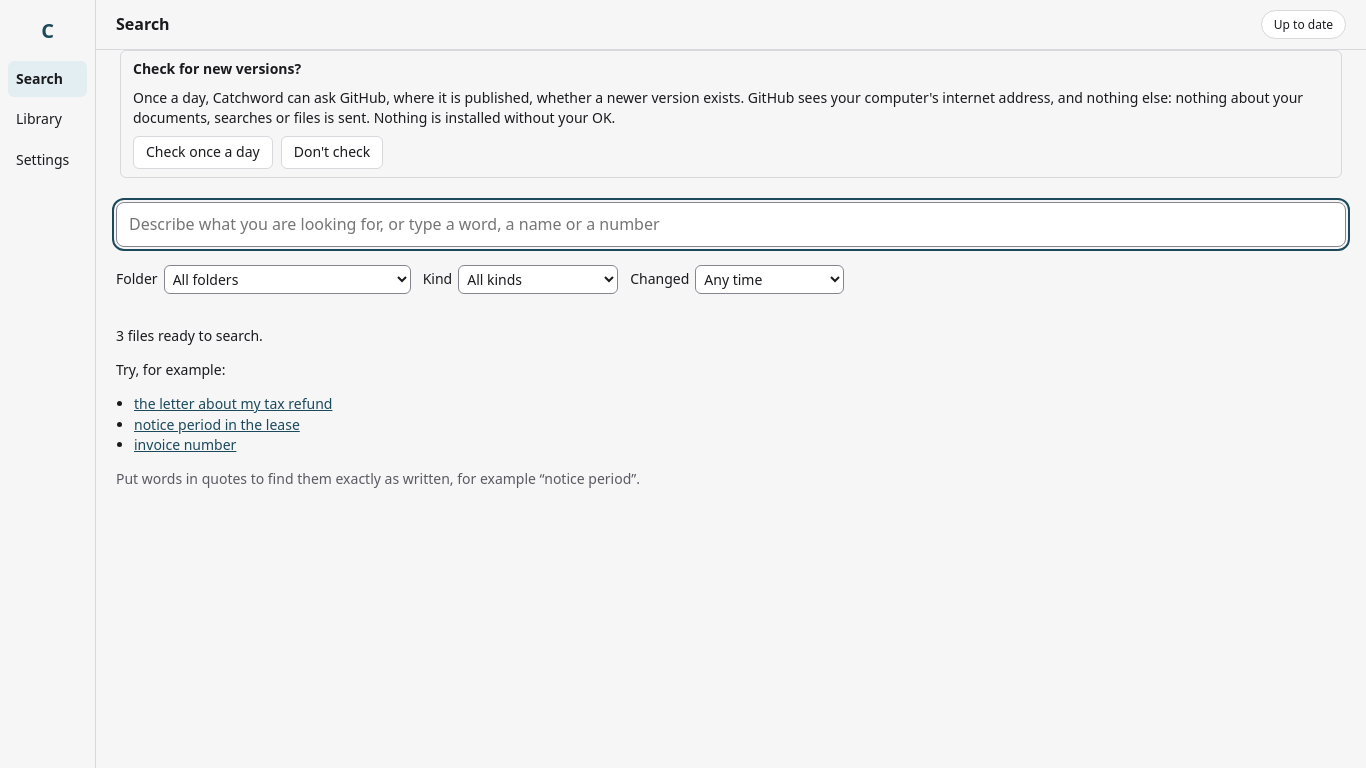
it: the window › asks once whether to check for new versions, when the first launch did not
This screenshot has width=1366, height=768.
Step 1. Click the button "Check once a day" → (203, 152), box [133,136,273,169]
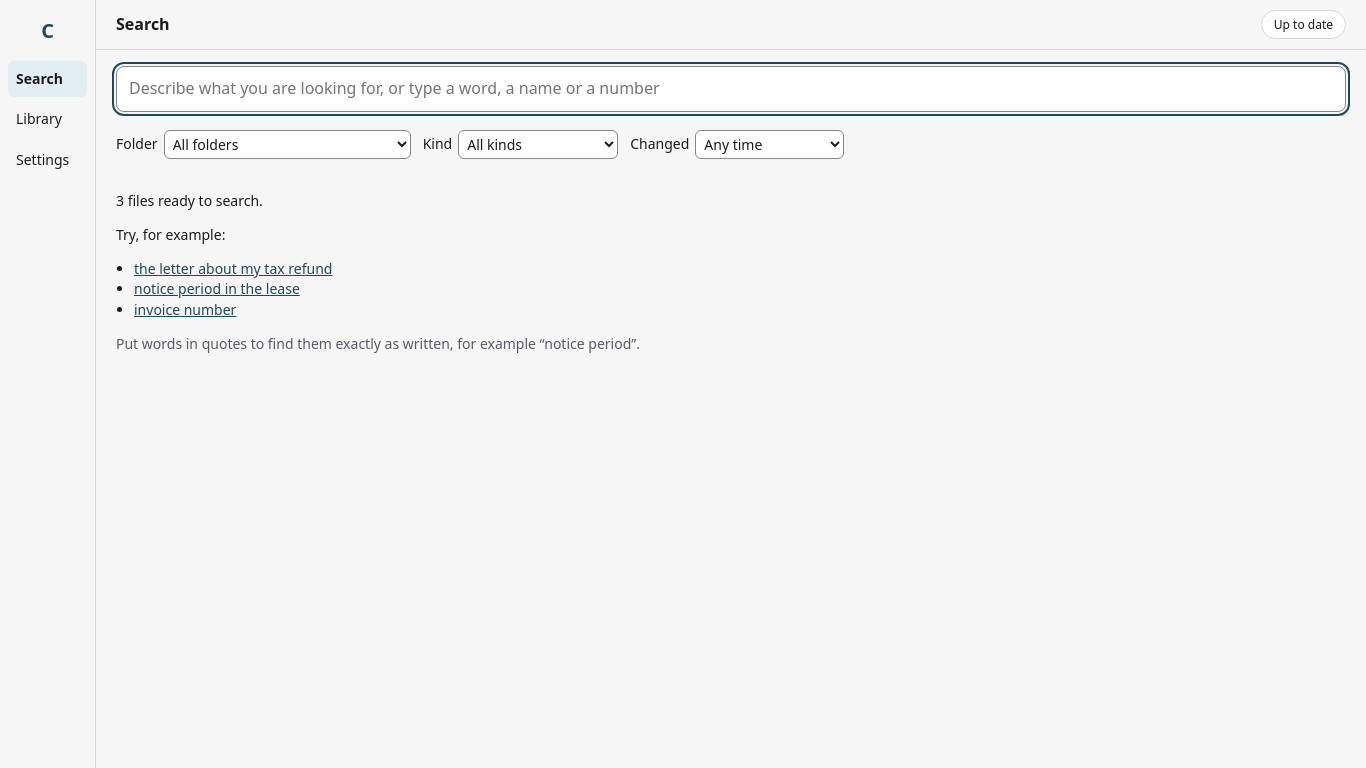
Expected: the text "Check for new versions?" is gone
